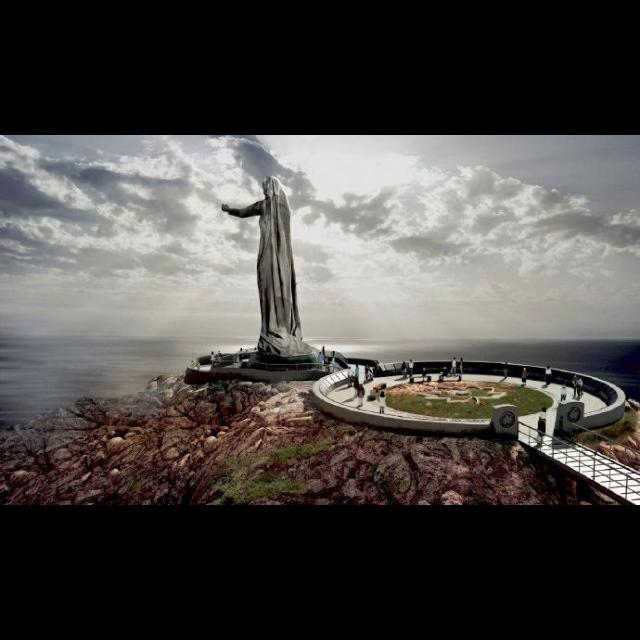head: (572, 374, 584, 396), (381, 392, 385, 396), (359, 384, 363, 388), (542, 408, 546, 412), (461, 358, 464, 362), (356, 364, 359, 368), (348, 366, 352, 369), (240, 348, 243, 352), (548, 366, 550, 370), (524, 368, 526, 372), (320, 352, 322, 356), (404, 362, 406, 366), (326, 358, 329, 360), (564, 386, 566, 388), (454, 358, 456, 360), (410, 360, 412, 362), (506, 363, 508, 365)
person: (538, 407, 548, 437), (378, 390, 388, 418), (572, 374, 584, 396), (356, 384, 366, 408), (544, 365, 554, 387), (448, 357, 459, 377), (316, 351, 326, 372), (400, 361, 410, 382), (520, 367, 530, 387), (560, 384, 568, 408), (354, 364, 361, 390), (346, 366, 354, 388), (458, 356, 466, 376), (502, 360, 510, 380), (238, 347, 245, 365), (408, 358, 414, 378), (326, 356, 332, 374)
